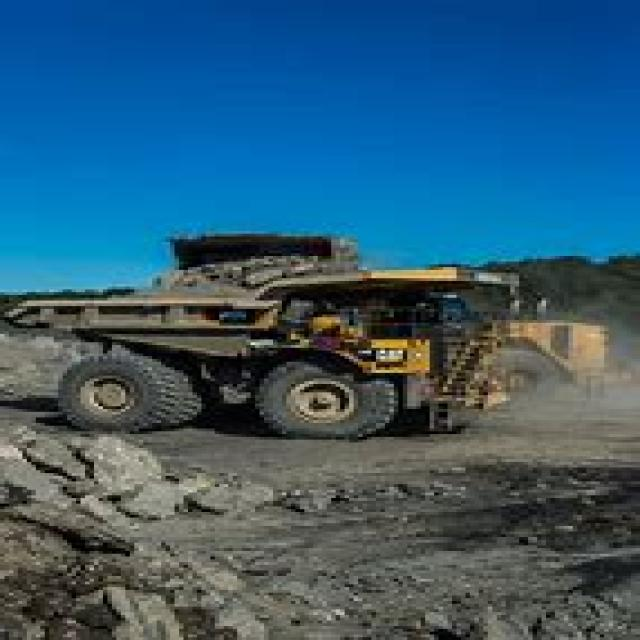dump_truck: (22, 259, 524, 437)
